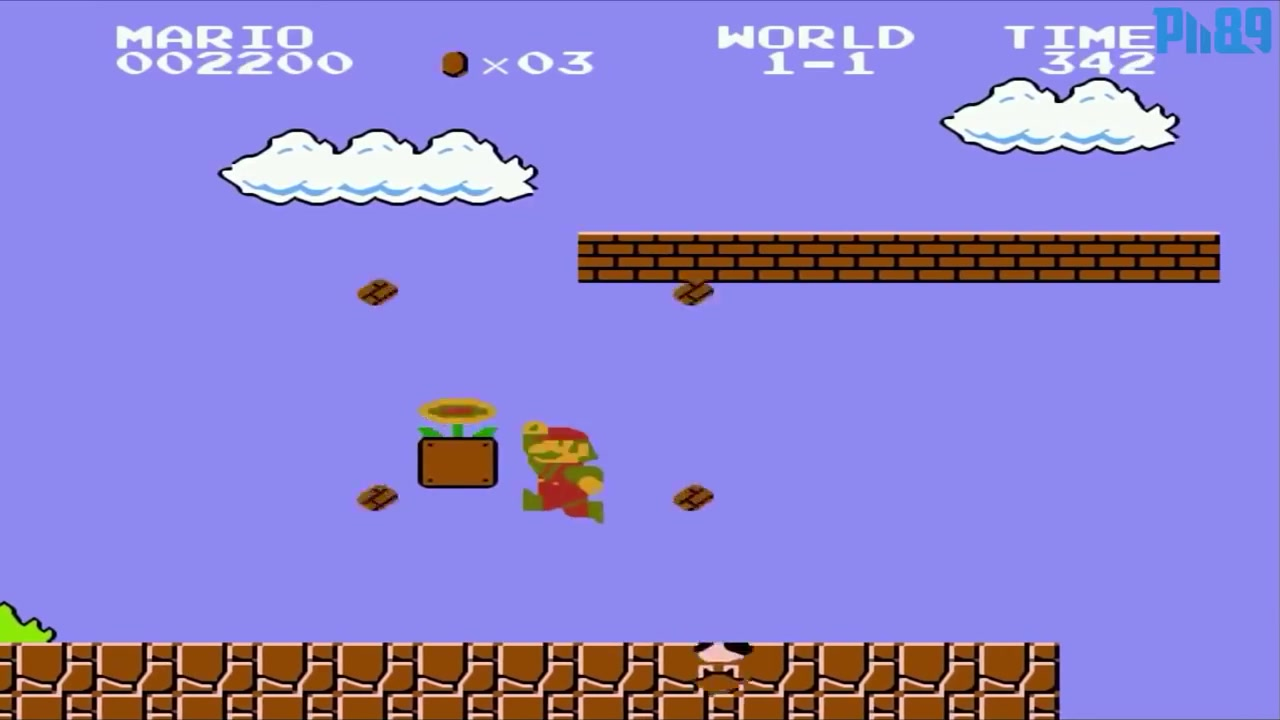mario: (512, 411, 608, 527)
